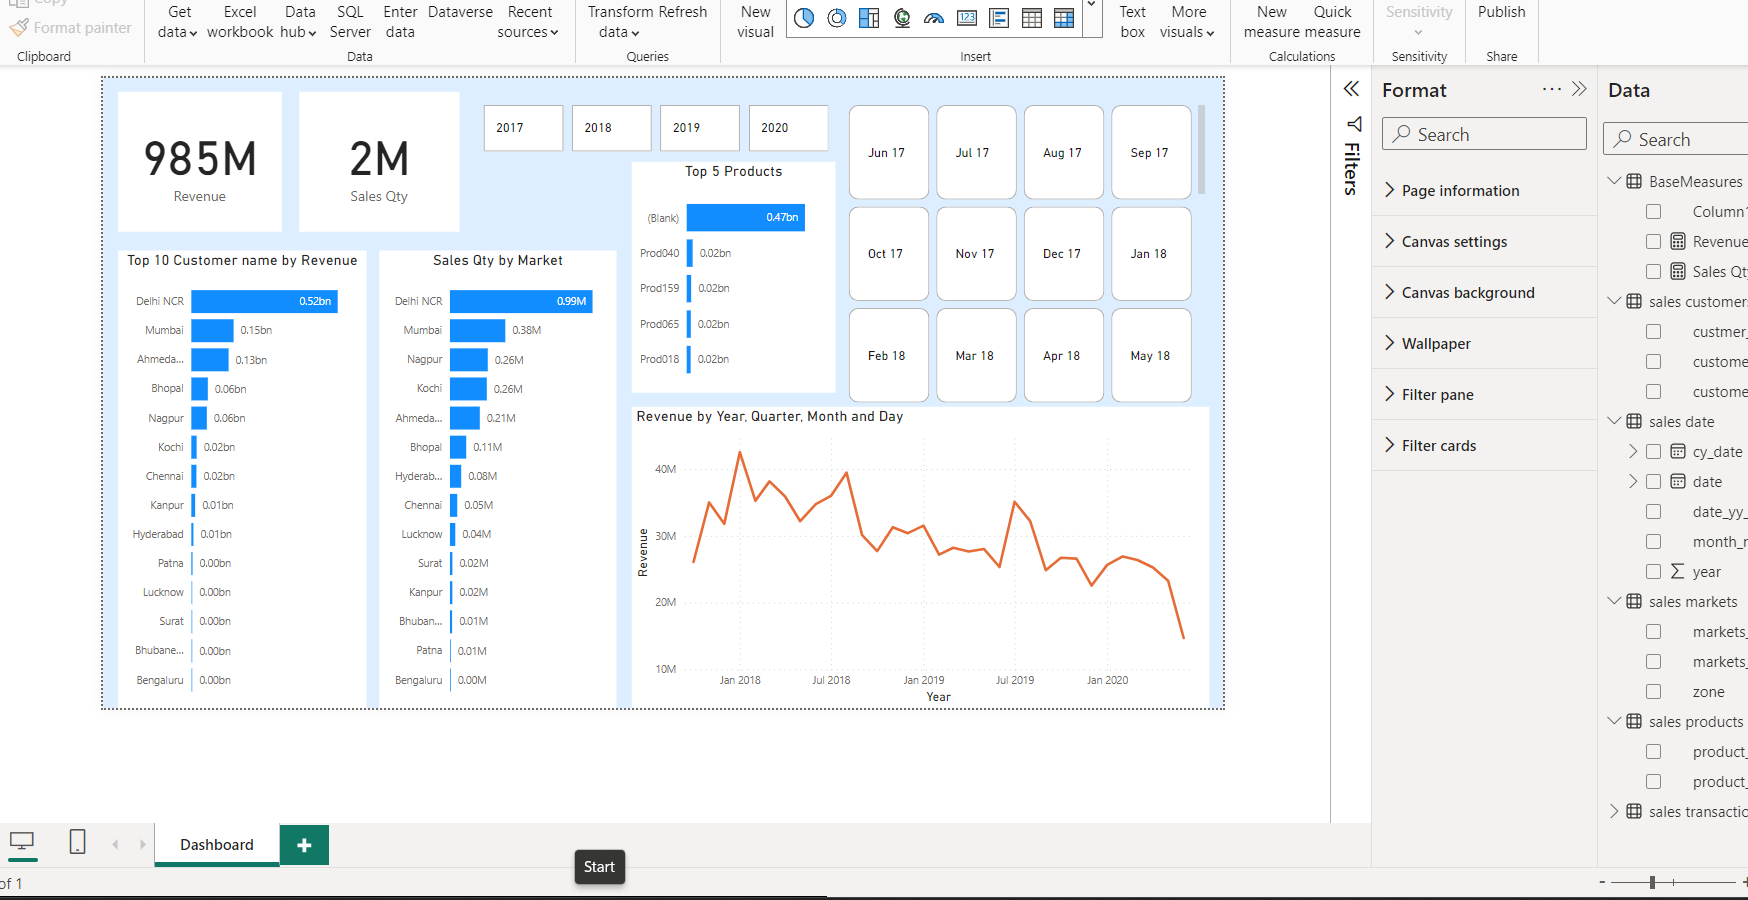

This screenshot's page, from the dashboard's own definition file:
{"tool":"powerbi","page":{"name":"Dashboard","canvas":[1280,720],"ordinal":0},"visuals":[{"type":"card","fields":{"Values":["BaseMeasures.Revenue"]},"box":[17.1,15.7,187.1,160],"z":0},{"type":"card","fields":{"Values":["BaseMeasures.Sales Qty"]},"box":[224.3,15.7,182.9,160],"z":1000},{"type":"clusteredBarChart","title":"Top 10 Customer name by Revenue","fields":{"Y":["BaseMeasures.Revenue"],"Category":["sales markets.markets_name"]},"box":[17.1,197.1,284.3,522.9],"z":2000},{"type":"clusteredBarChart","title":"Sales Qty by Market","fields":{"Y":["BaseMeasures.Sales Qty"],"Category":["sales markets.markets_name"]},"box":[315.7,197.1,271.4,522.9],"z":3000},{"type":"advancedSlicerVisual","fields":{"Values":["sales date.year"]},"box":[420,15.7,417.1,201.4],"z":4000},{"type":"advancedSlicerVisual","fields":{"Values":["sales date.cy_date"]},"box":[837.1,15.7,427.1,360],"z":5000},{"type":"clusteredBarChart","title":"Top 5 Products","fields":{"Y":["BaseMeasures.Revenue"],"Category":["sales products.product_code"]},"box":[604.3,95.7,232.9,264.3],"z":6000},{"type":"lineChart","fields":{"Y":["BaseMeasures.Revenue"],"Category":["sales date.cy_date.Variation.Date Hierarchy.Year","sales date.cy_date.Variation.Date Hierarchy.Quarter","sales date.cy_date.Variation.Date Hierarchy.Month","sales date.cy_date.Variation.Date Hierarchy.Day"]},"box":[604.3,375.7,660,344.3],"z":6001}]}

Visuals, with their boxes on the page's 1280x720 design canvas (x1, y1, x2, y2). These are canvas units, not pixel positions in the 1748x900 screenshot, which may show the page scaled, cropped or inside an application window:
card - BaseMeasures.Revenue: (17,16,204,176)
card - BaseMeasures.Sales Qty: (224,16,407,176)
"Top 10 Customer name by Revenue" clusteredBarChart: (17,197,301,720)
"Sales Qty by Market" clusteredBarChart: (316,197,587,720)
advancedSlicerVisual - sales date.year: (420,16,837,217)
advancedSlicerVisual - sales date.cy_date: (837,16,1264,376)
"Top 5 Products" clusteredBarChart: (604,96,837,360)
lineChart - BaseMeasures.Revenue x sales date.cy_date.Variation.Date Hierarchy.Year: (604,376,1264,720)
